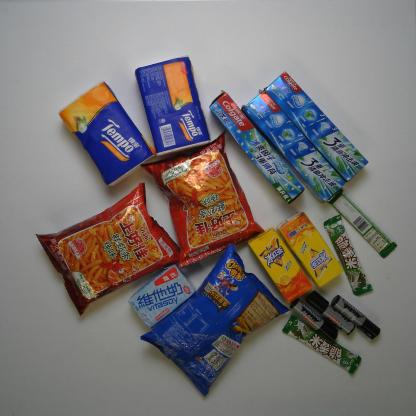Chocolate: (326, 188, 398, 259), (281, 314, 361, 374), (322, 214, 372, 295)
Drink: (277, 211, 343, 288), (248, 228, 312, 303)
Milk: (128, 264, 195, 329)
Personal Hygiene: (241, 90, 345, 204), (266, 72, 368, 181), (209, 90, 305, 204)
Puffed Food: (140, 244, 291, 397), (35, 182, 189, 318), (141, 128, 265, 269)
Stationery: (289, 298, 339, 344), (331, 295, 380, 340), (305, 291, 355, 334)
Tissue: (58, 81, 156, 186), (135, 56, 211, 156)
